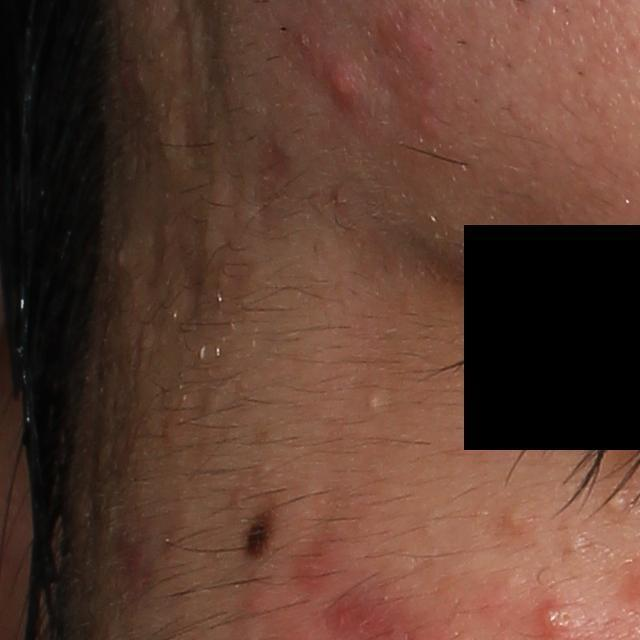comedo: (597, 486, 630, 520), (560, 534, 587, 561), (357, 393, 382, 414)
nevus: (238, 502, 279, 570)
papule: (323, 66, 363, 110)
